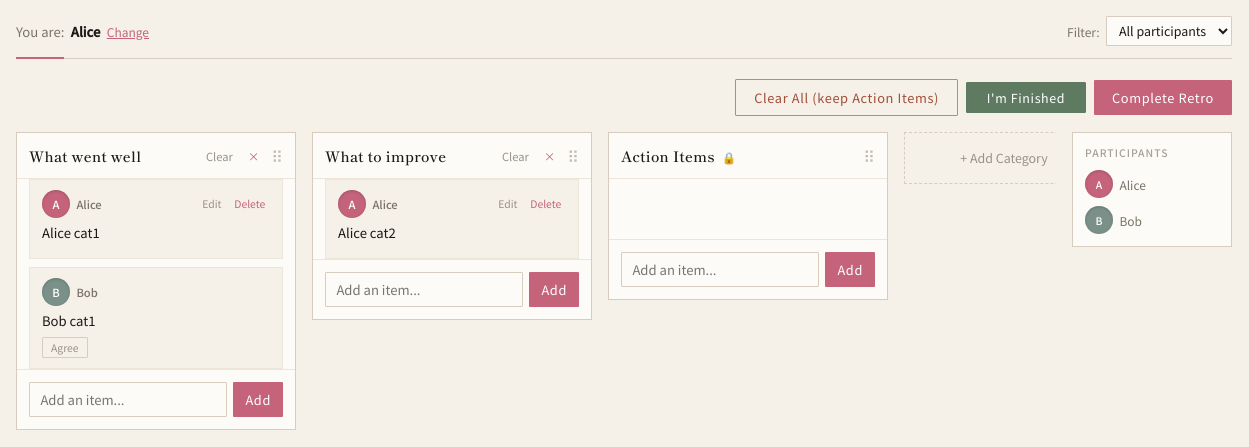
Scenario: RetroBoard — participant filter › filters across multiple categories
The image size is (1249, 447).
Select "Alice" in the dropdown labelled "Filter:" at (1169, 31), box [1106,16,1232,46]
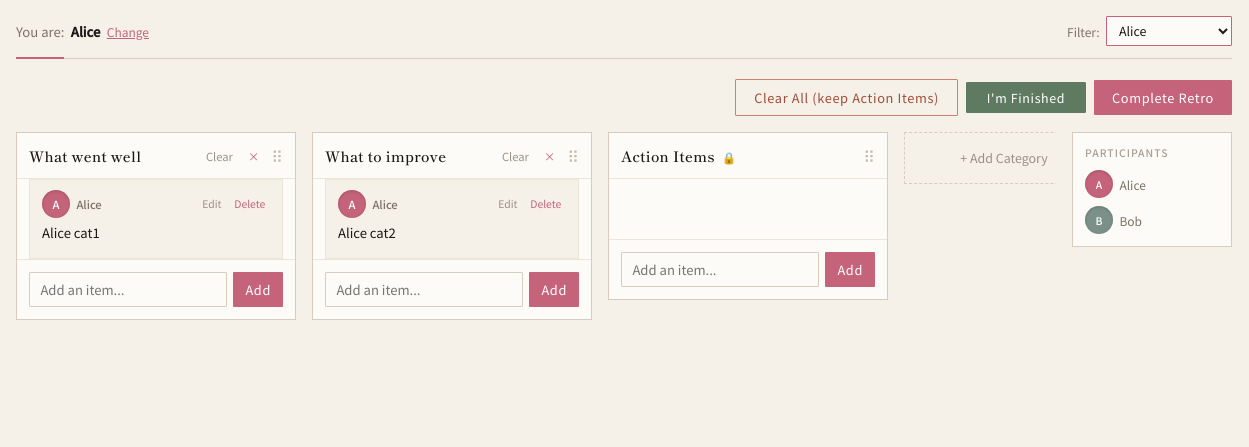
Expected: the text "Alice cat1" is shown, [42,223,100,242]
Now the text "Bob cat1" is gone
